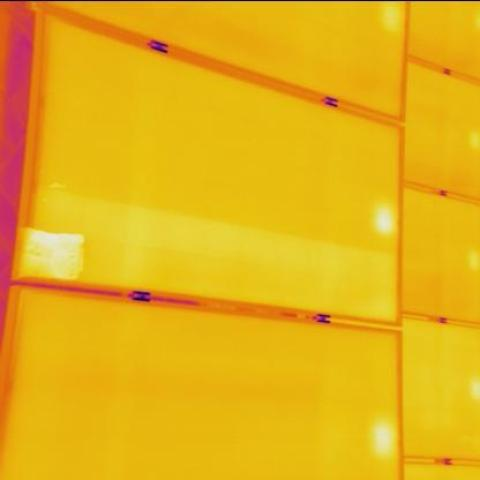fault: (18, 227, 86, 273), (377, 423, 394, 456), (376, 206, 390, 236)
